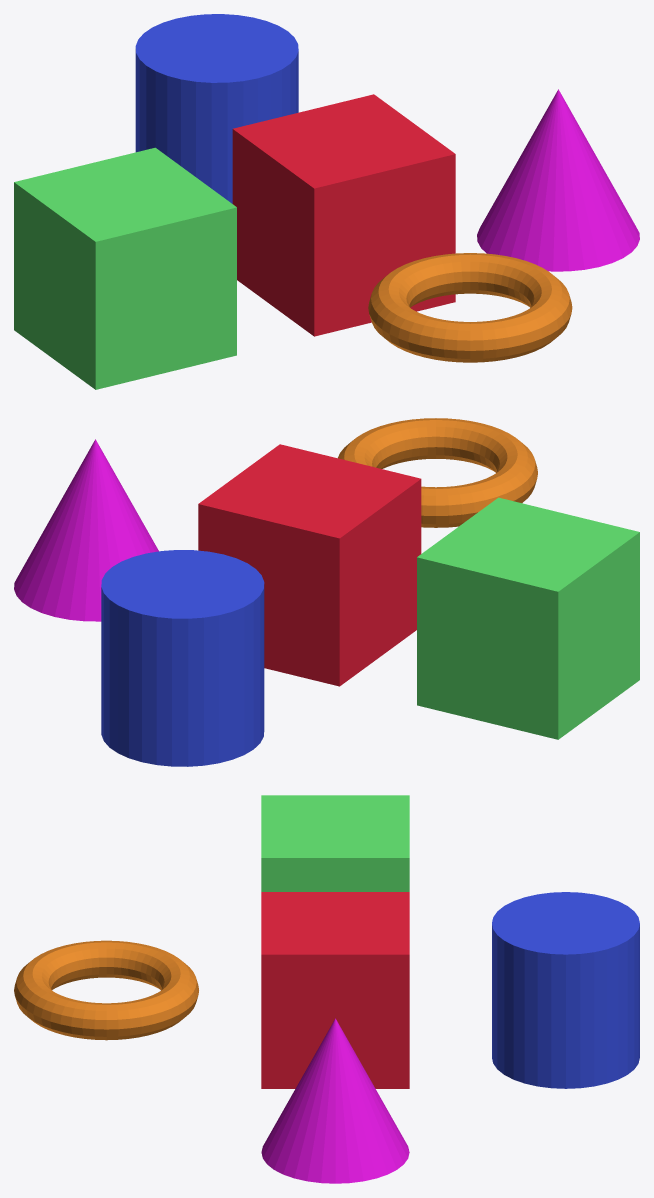
The picture shows the model from 3 angles, top to bottom: view 1: azimuth 30°, elevation 25°; view 2: azimuth 150°, elevation 25°; view 3: azimuth 270°, elevation 25°; orthographic projection. The views are drawn at different scales.
Visible parts, largest first — view 1: Side Cube, Middle Cube, Cylinder, Cone, Torus; view 2: Side Cube, Middle Cube, Cylinder, Cone, Torus; view 3: Cylinder, Middle Cube, Side Cube, Cone, Torus.
Part boxes in pixels (bbox=[...]): Side Cube: bbox=[14, 147, 236, 389]; Middle Cube: bbox=[232, 94, 455, 336]; Cylinder: bbox=[135, 14, 298, 203]; Cone: bbox=[477, 89, 639, 271]; Torus: bbox=[368, 253, 572, 362]; Side Cube: bbox=[417, 497, 639, 739]; Middle Cube: bbox=[198, 444, 421, 686]; Cylinder: bbox=[101, 550, 264, 766]; Cone: bbox=[14, 439, 158, 621]; Torus: bbox=[338, 418, 537, 527]; Cylinder: bbox=[492, 892, 639, 1088]; Middle Cube: bbox=[261, 892, 409, 1088]; Side Cube: bbox=[261, 795, 409, 891]; Cone: bbox=[261, 1018, 409, 1183]; Torus: bbox=[14, 940, 198, 1040].
Size of the model in its own units: 8.45 by 8.12 by 2.
